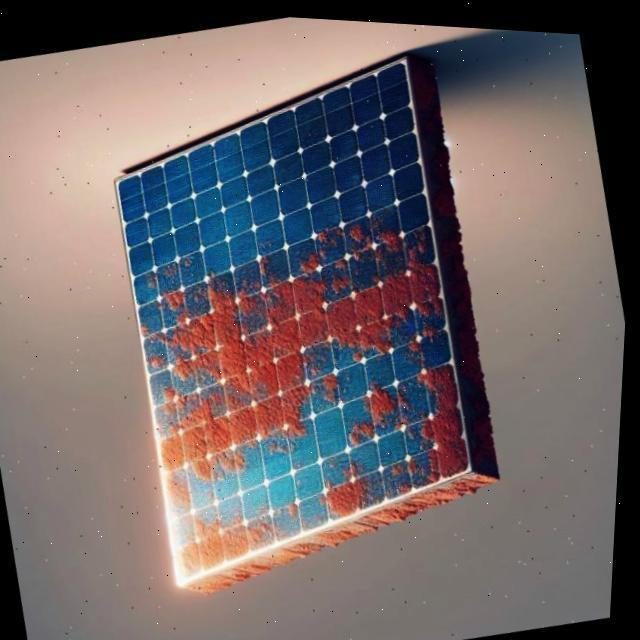Anomaly Solar Panel: (103, 56, 484, 577)
Surface Contaminant: (128, 203, 471, 510), (343, 357, 476, 500), (171, 479, 312, 576), (312, 443, 388, 519)
